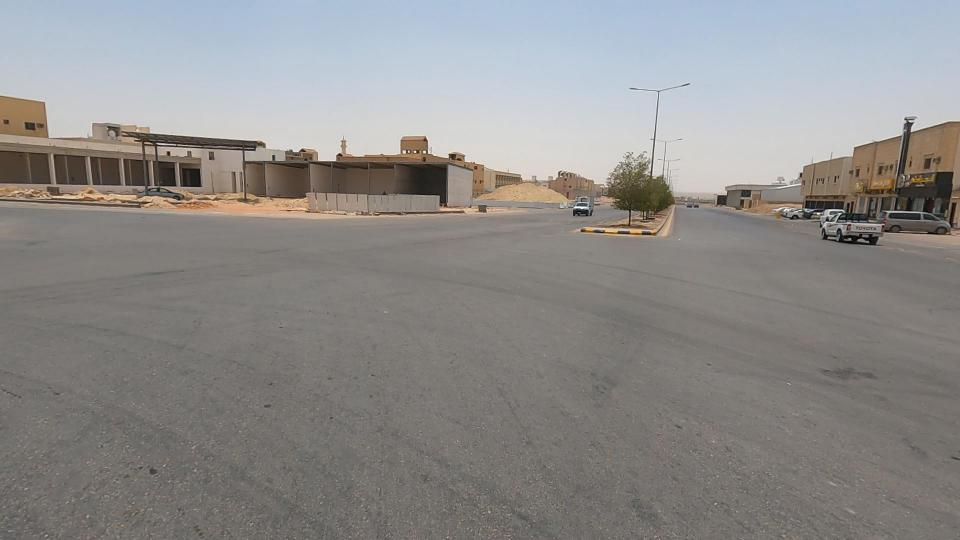SAND_ON_ROAD: (104, 186, 216, 228)
